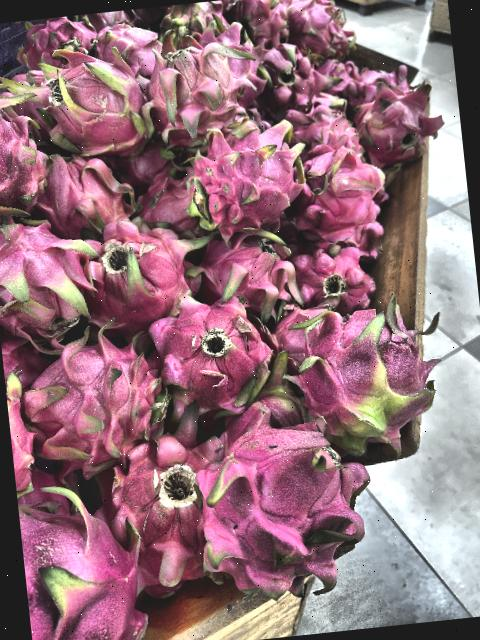buah-naga-belum-matang: (278, 293, 456, 472), (132, 31, 256, 150), (156, 1, 228, 46)
buah-naga-matang: (182, 408, 381, 606), (13, 322, 178, 481), (88, 438, 226, 588), (17, 483, 147, 640), (4, 41, 160, 166), (70, 214, 213, 328), (184, 106, 310, 232), (147, 287, 275, 411), (0, 205, 109, 348), (284, 134, 394, 246), (26, 143, 144, 245), (188, 218, 298, 319), (347, 75, 447, 168), (282, 232, 382, 322), (0, 82, 56, 224), (252, 37, 346, 114), (275, 98, 364, 165), (81, 15, 164, 80), (12, 15, 98, 69), (284, 0, 347, 60), (228, 0, 298, 53)
